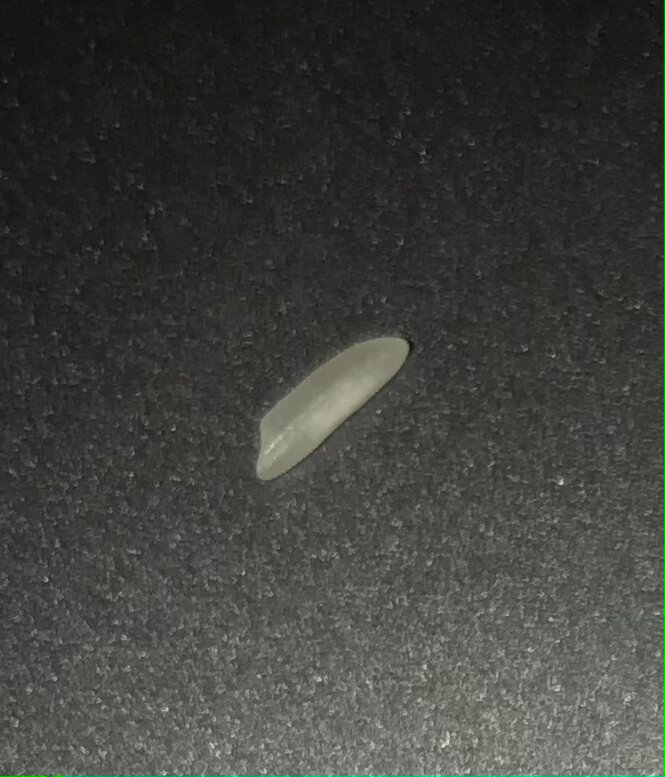Gao Long Lai: (252, 333, 414, 480)
